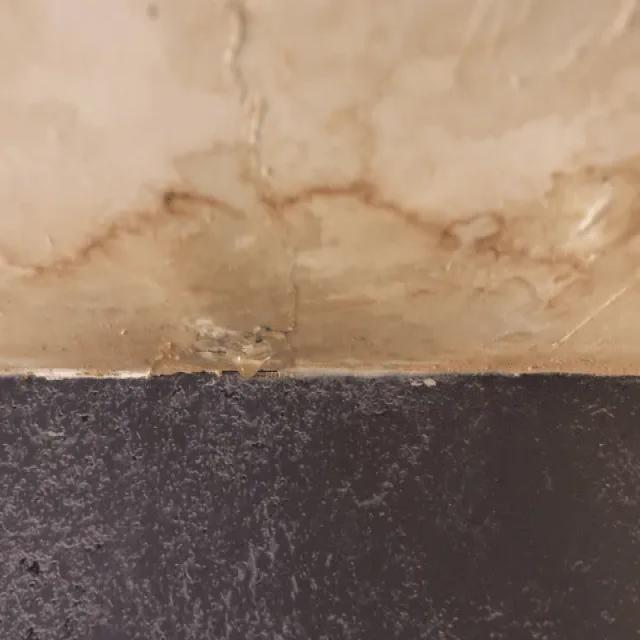dampness: (3, 147, 636, 376)
